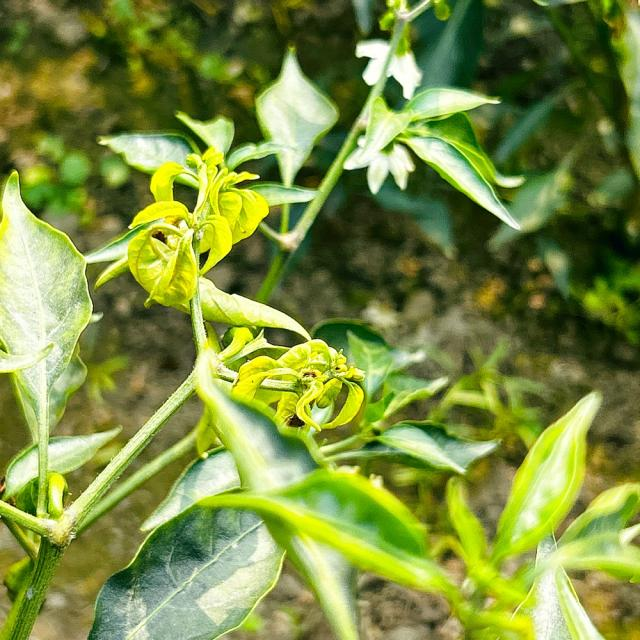Chilli_Leaf_Curl: (1, 4, 637, 638), (87, 447, 288, 638), (95, 146, 270, 311), (342, 84, 525, 231), (0, 170, 94, 426), (489, 389, 603, 567), (509, 481, 638, 638), (230, 336, 366, 434), (253, 44, 340, 188)
